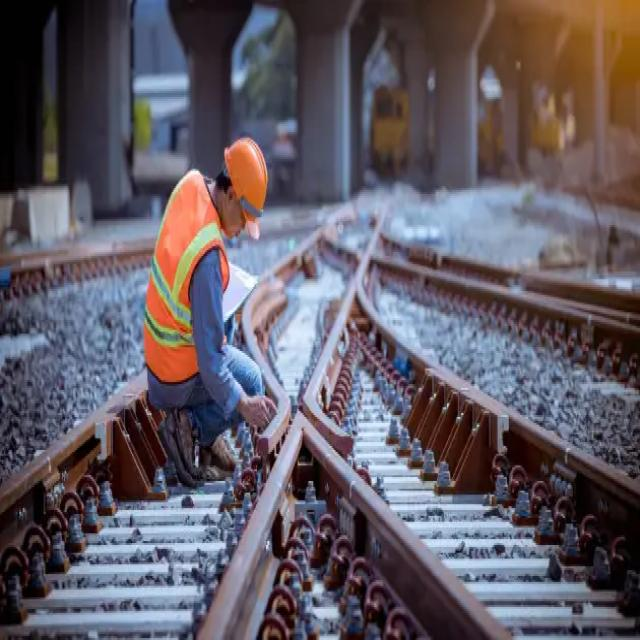helmet: (221, 114, 268, 239)
vest: (142, 169, 219, 390)
